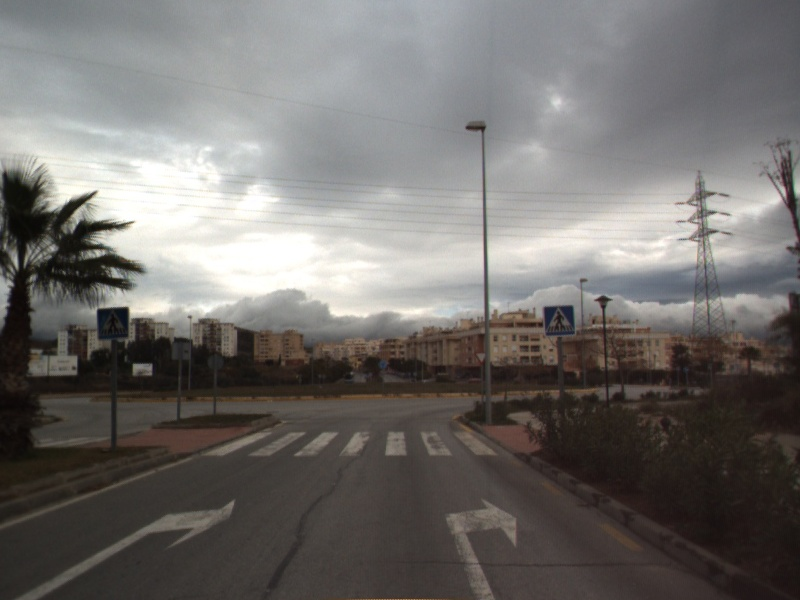RIGHT: (13, 496, 238, 600), (442, 496, 519, 600)
